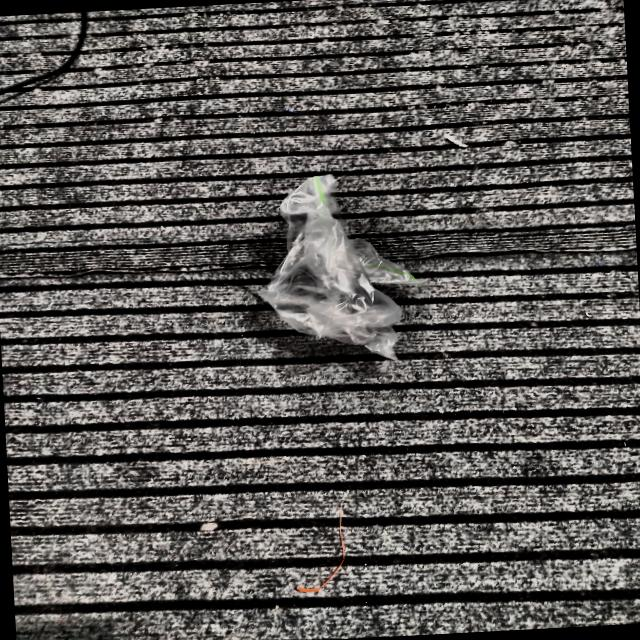plastic bag: (259, 174, 416, 360)
